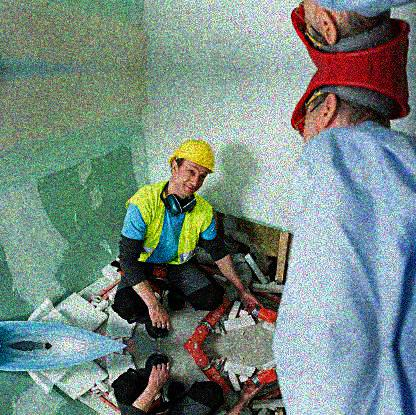helmet: (167, 140, 215, 195)
